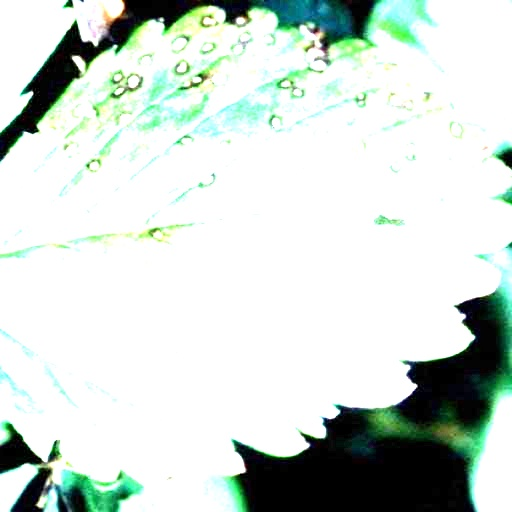Leaf Spot: (0, 6, 511, 499)
